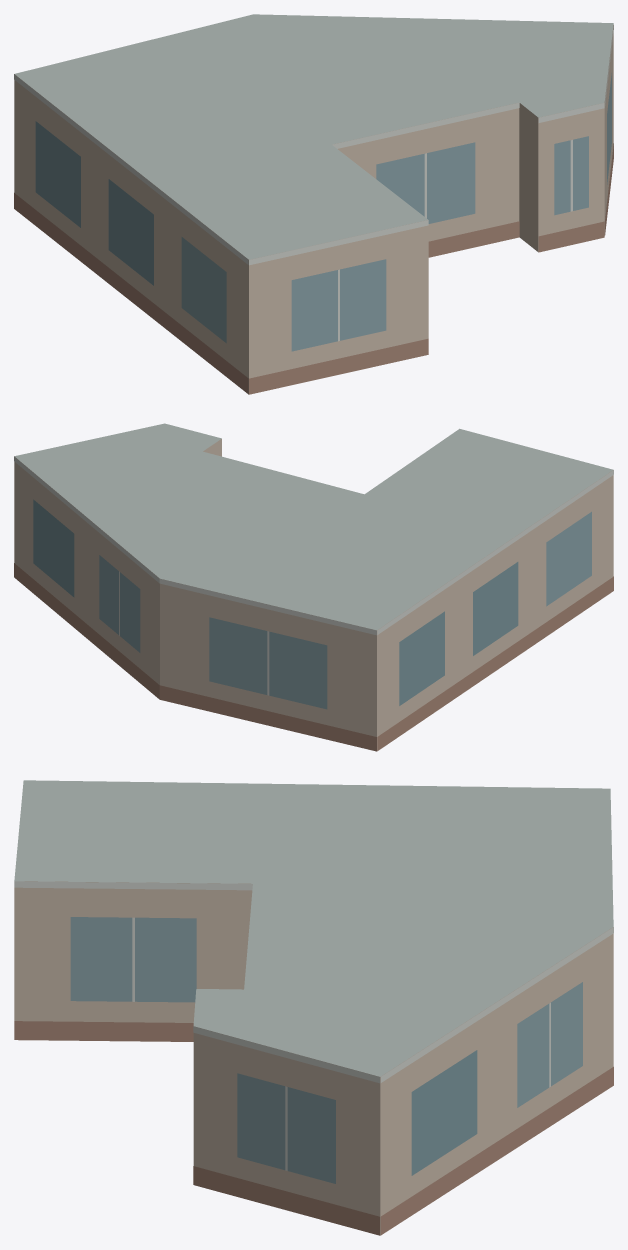
Rendered from survey-upis-32729058.glb.
The picture shows the model from 3 angles, top to bottom: view 1: azimuth 30°, elevation 25°; view 2: azimuth 150°, elevation 25°; view 3: azimuth 270°, elevation 25°; orthographic projection. The views are drawn at different scales.
Parts seen in each view (by area): view 1: survey-upis-32729058.tmp; view 2: survey-upis-32729058.tmp; view 3: survey-upis-32729058.tmp.
Part boxes in pixels (left/top/right/bottom): survey-upis-32729058.tmp: left=14, top=14, right=613, bottom=394; survey-upis-32729058.tmp: left=14, top=423, right=613, bottom=751; survey-upis-32729058.tmp: left=14, top=780, right=613, bottom=1235.
Bounding box in the file's own units: 12.23 × 3.05 × 10.45.
